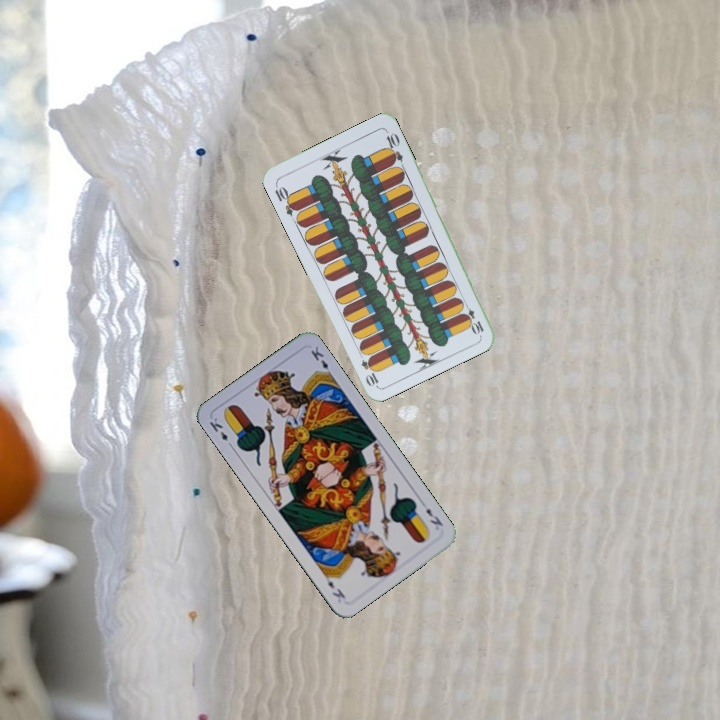E10: (271, 180, 301, 218), (459, 298, 486, 337)
EK: (205, 413, 236, 451), (422, 504, 446, 529)
